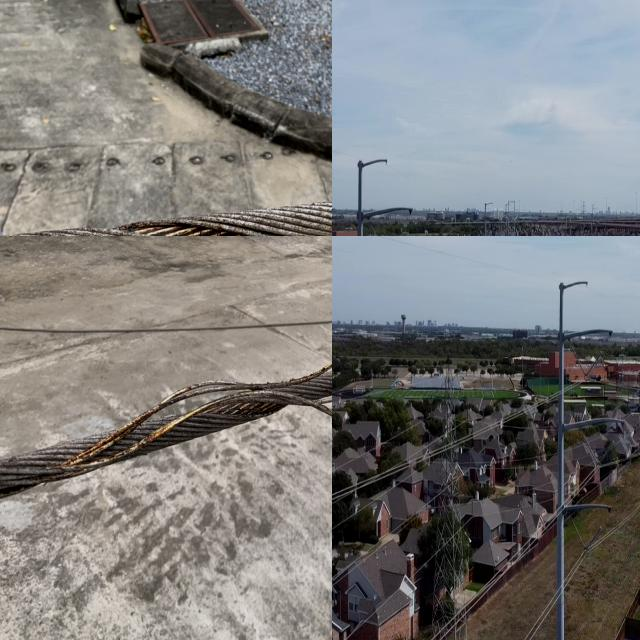杆塔: (426, 354, 475, 640)
正常绝缘子: (582, 432, 600, 468), (584, 348, 603, 379), (596, 439, 616, 468), (571, 517, 588, 551), (571, 345, 588, 378), (584, 524, 603, 551), (395, 219, 407, 236), (368, 220, 379, 236)
电缆破损: (35, 314, 332, 500)
